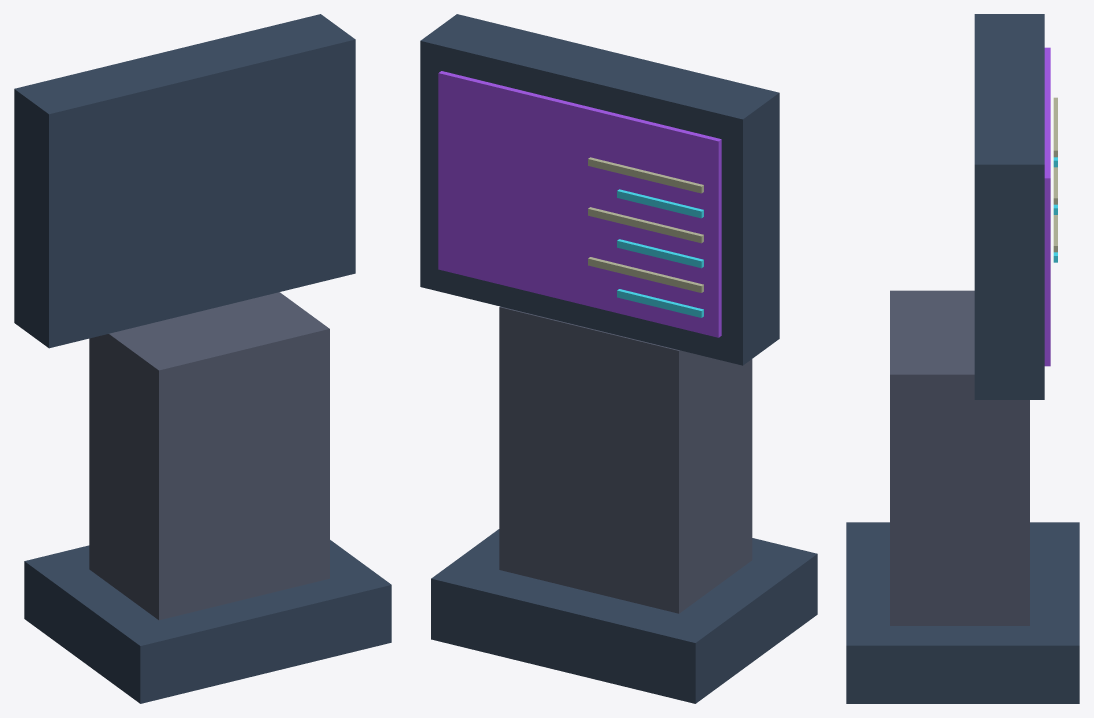
File: env_record_station.obj
The picture shows the model from 3 angles, left to right: view 1: azimuth 30°, elevation 25°; view 2: azimuth 150°, elevation 25°; view 3: azimuth 270°, elevation 25°; orthographic projection. The views are drawn at different scales.
Size of the model in its own units: 1.22 by 2.09 by 0.8.
